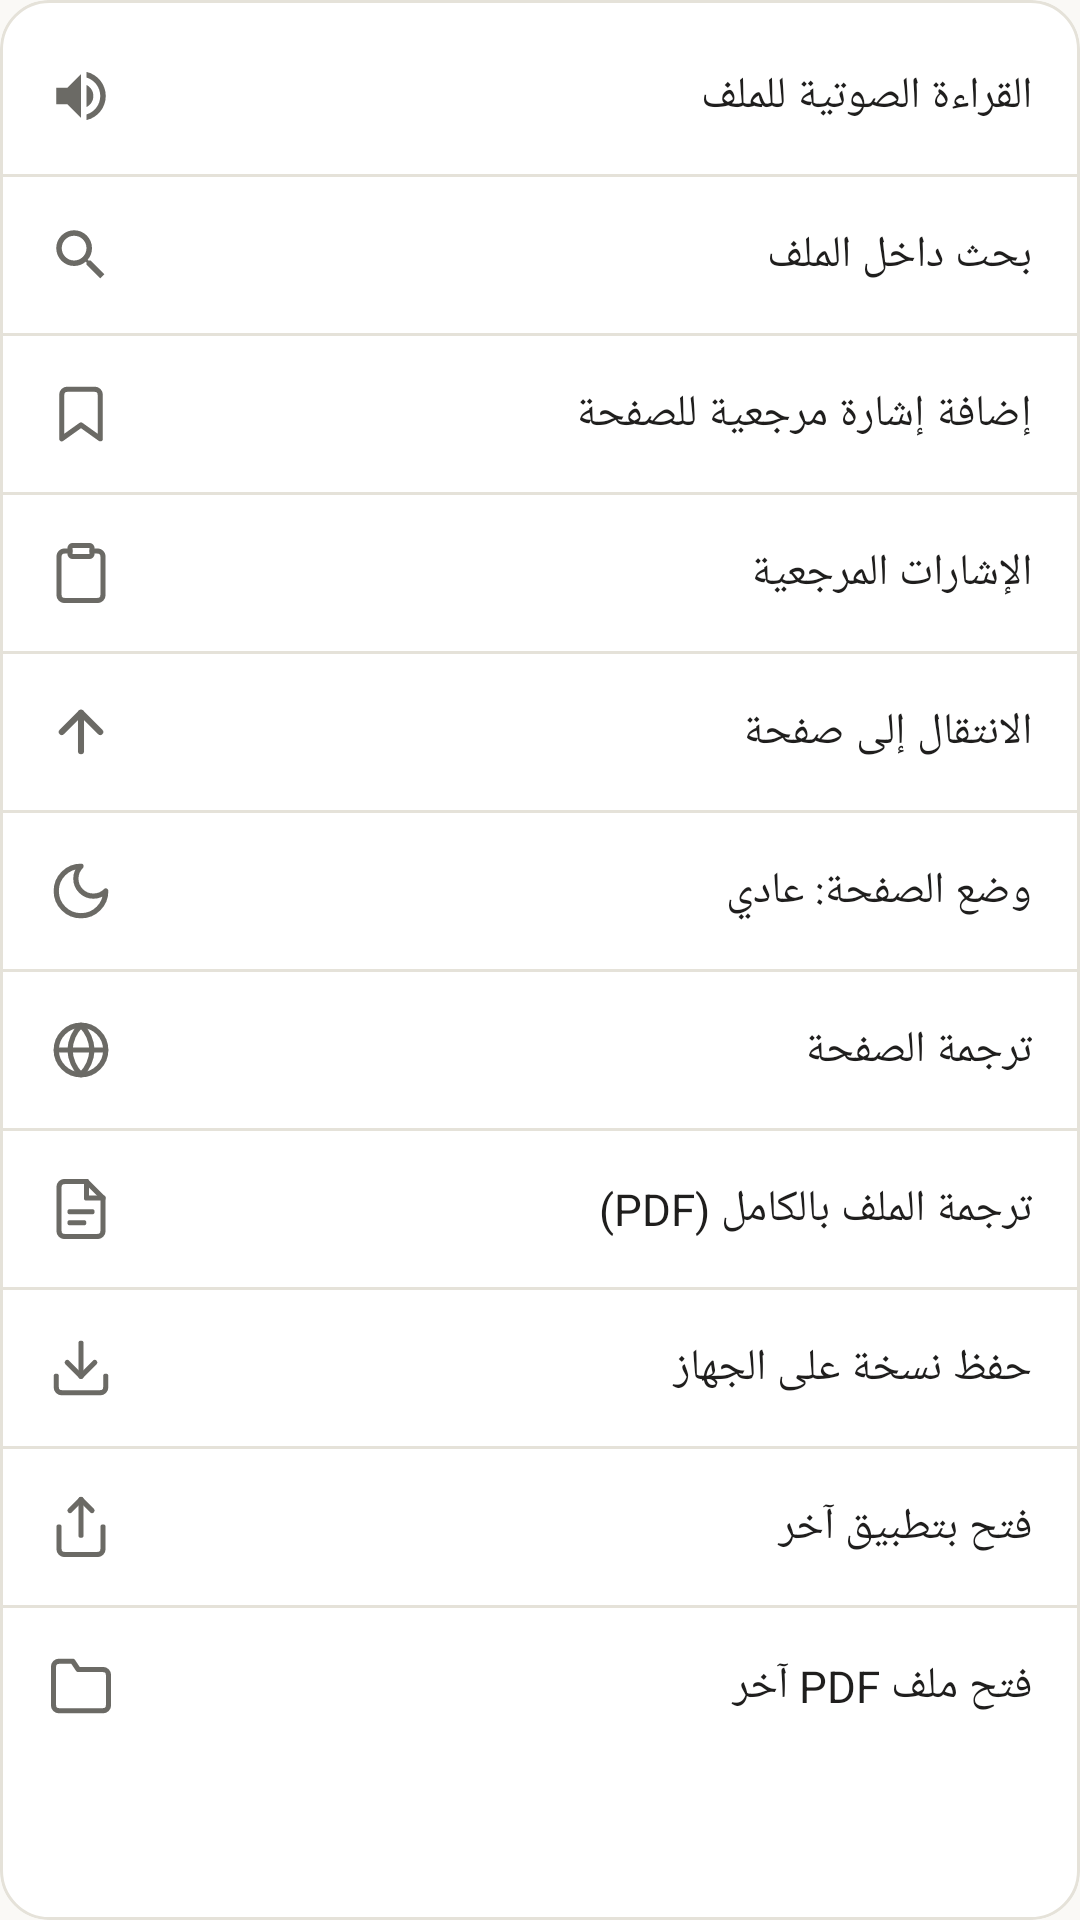

Point at icon controls on the screen. Image size 1080 x 1920, points as (x=x, y=y).
arrow up: (x=81, y=731)
bookmark: (x=81, y=414)
clipboard: (x=81, y=573)
download: (x=81, y=1368)
globe: (x=81, y=1050)
moon: (x=81, y=891)
search: (x=80, y=254)
share out: (x=81, y=1527)
volume: (x=81, y=96)
